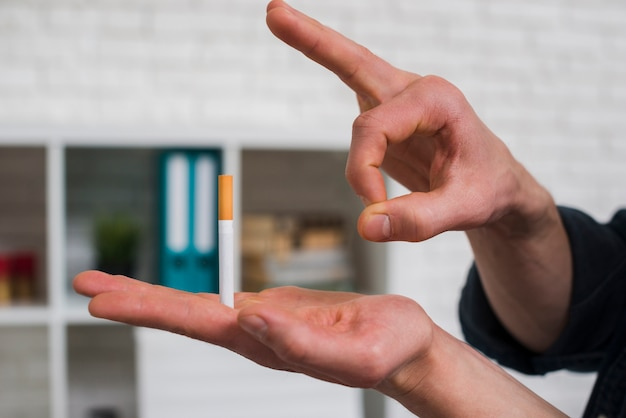cigarette: (216, 173, 234, 310)
